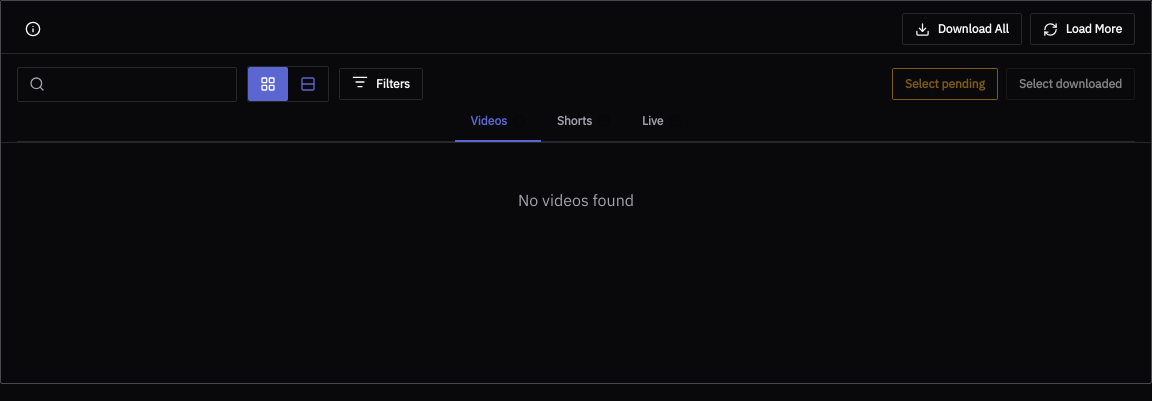
Test: ChannelVideos Component › channelAvailableTabs prop sync › preserves the current selected tab when it remains in the new list
This screenshot has width=1152, height=401.
Click the tab "Shorts" at (584, 122), box [541, 102, 626, 142]
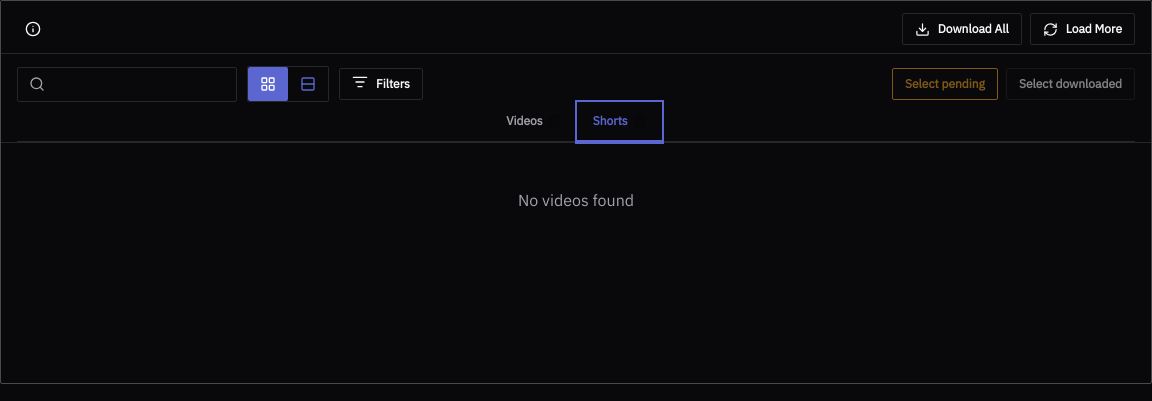
Expected: the tab "Live" is gone
